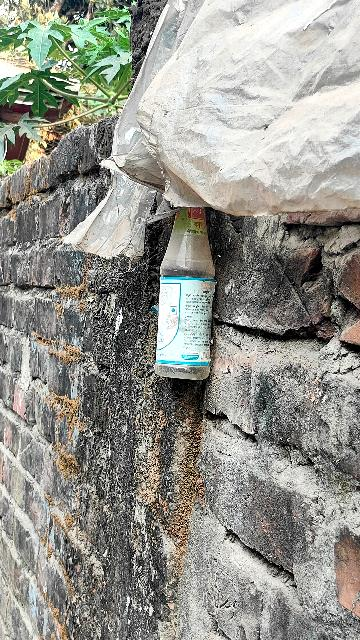bottle: (149, 200, 220, 402)
